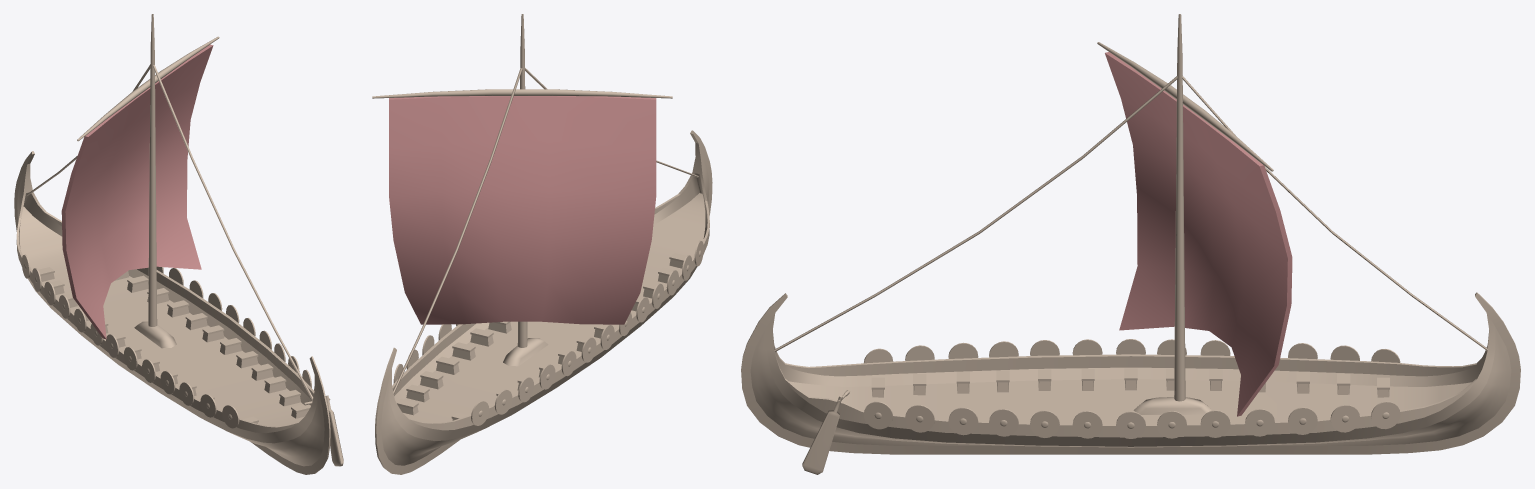
Rendered from LongShip_Model.fbx.
The picture shows the model from 3 angles, left to right: view 1: azimuth 30°, elevation 25°; view 2: azimuth 150°, elevation 25°; view 3: azimuth 270°, elevation 25°; orthographic projection. The views are drawn at different scales.
Parts seen in each view (by area): view 1: Longship, Sail; view 2: Sail, Longship; view 3: Longship, Sail.
Part boxes in pixels (box(x1,y1,x2,y2)): Longship: box(14, 14, 343, 474); Sail: box(61, 36, 219, 339); Sail: box(372, 89, 672, 324); Longship: box(375, 14, 712, 474); Longship: box(741, 14, 1520, 474); Sail: box(1097, 42, 1292, 416).
Size of the model in its own units: 9.79 by 15.67 by 25.19.
